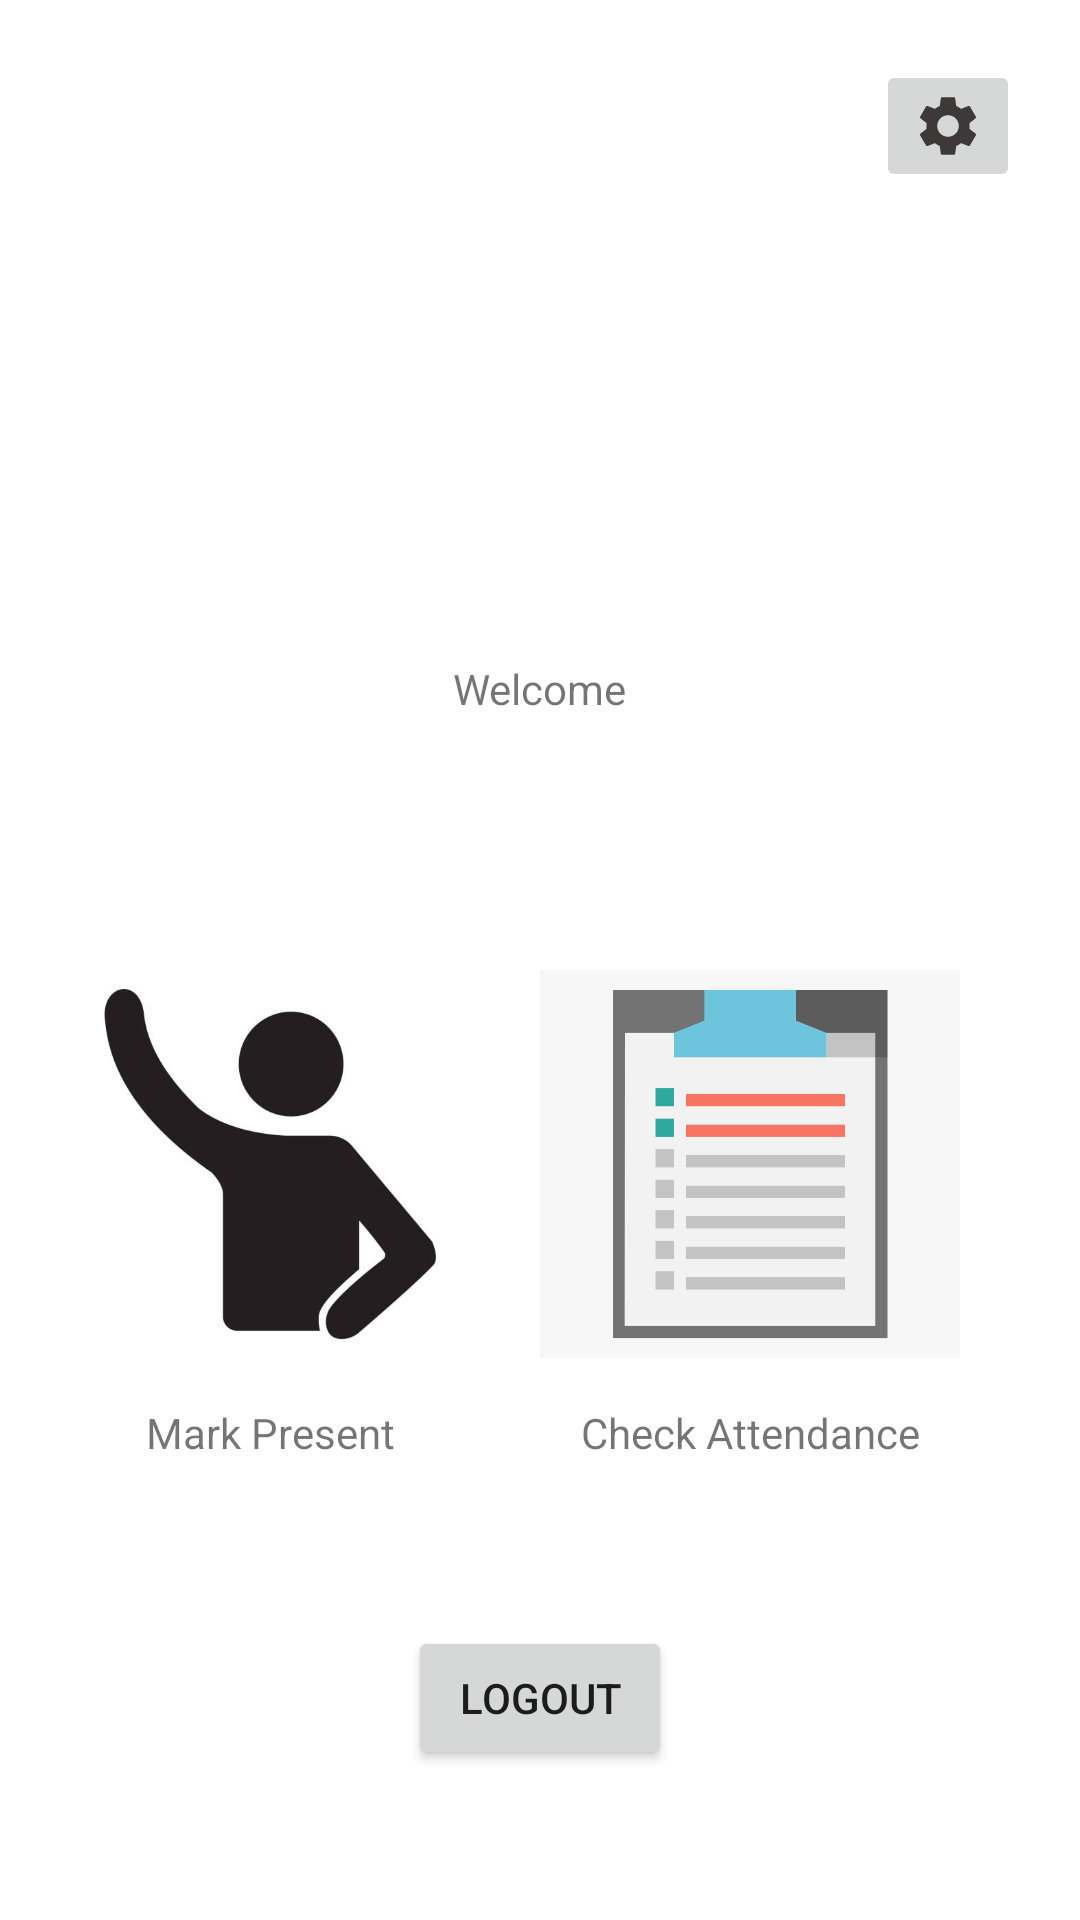

Locate icon controls on the screen. Image size 1080 × 1920, boxes as [left=x1, top=y1, right=x2, bottom=y2].
list: [left=613, top=990, right=888, bottom=1339]
settings: [left=888, top=78, right=1008, bottom=174]
student raise hand: [left=104, top=989, right=436, bottom=1339]
